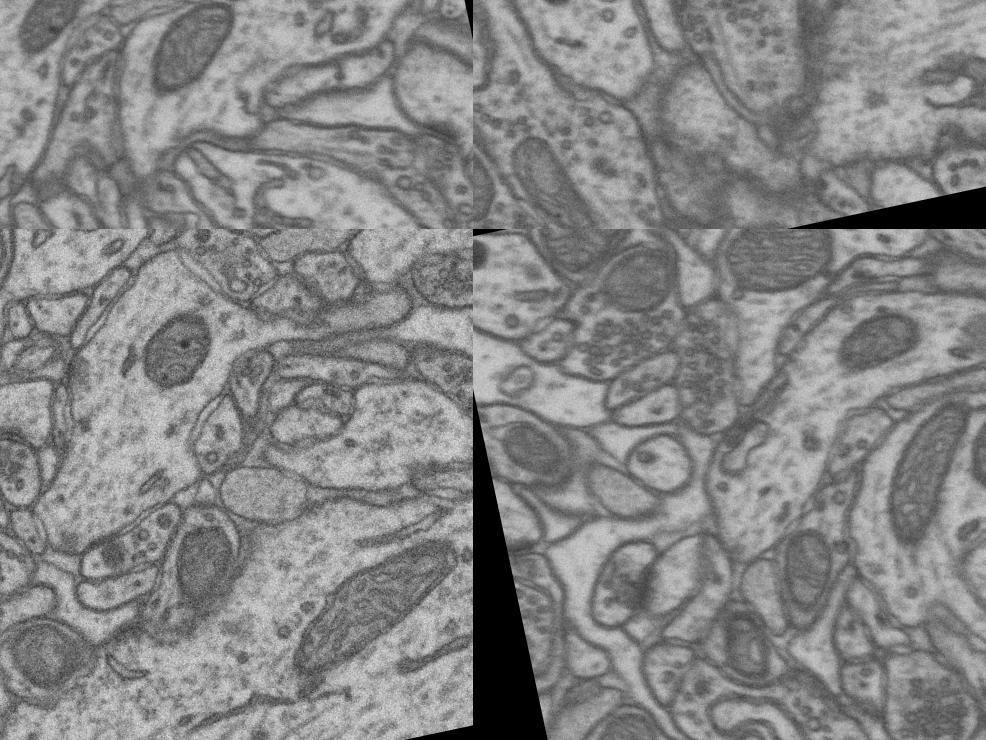mitochondria: (254, 519, 473, 699), (858, 388, 986, 561), (116, 0, 254, 116), (497, 112, 633, 229), (632, 101, 752, 226), (149, 508, 252, 622), (125, 298, 230, 405), (712, 229, 851, 307), (0, 607, 99, 706), (589, 233, 688, 326), (826, 296, 934, 381), (765, 518, 846, 624), (702, 598, 782, 692), (529, 229, 653, 289), (492, 408, 575, 496), (0, 0, 100, 63), (948, 389, 986, 507), (572, 699, 670, 740), (473, 100, 500, 229), (525, 0, 594, 27), (686, 214, 762, 229)
